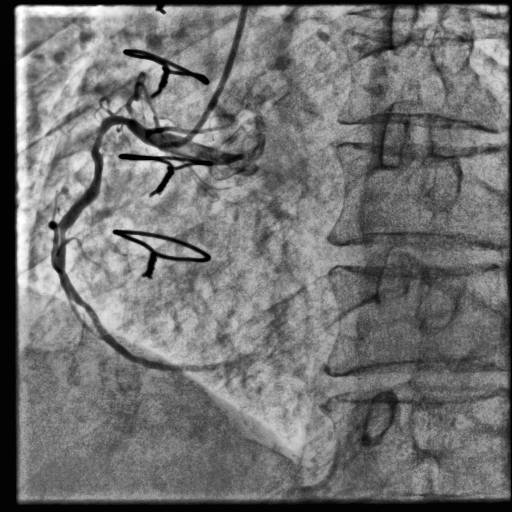rca: (56, 116, 222, 372)
